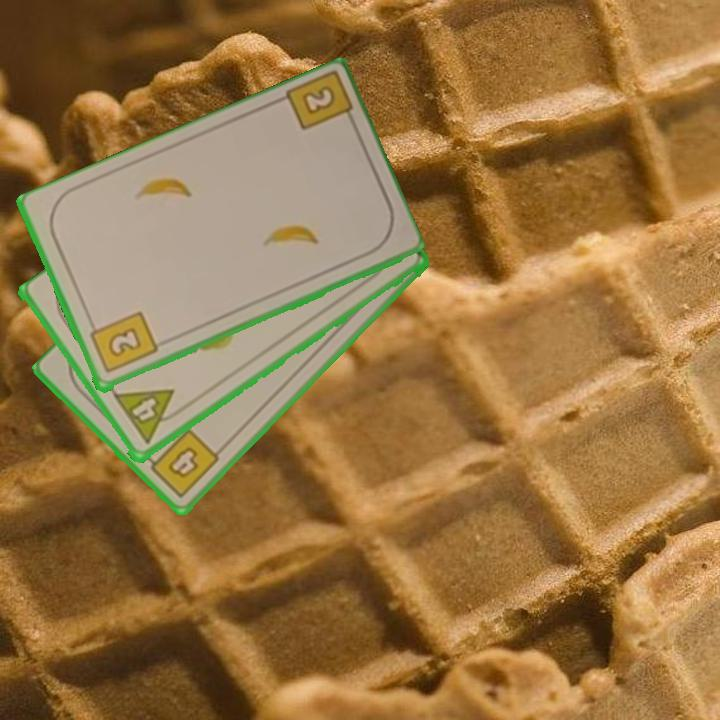2b: (86, 308, 160, 377), (280, 70, 359, 134)
4b: (141, 425, 223, 501)
4p: (110, 385, 187, 448)
